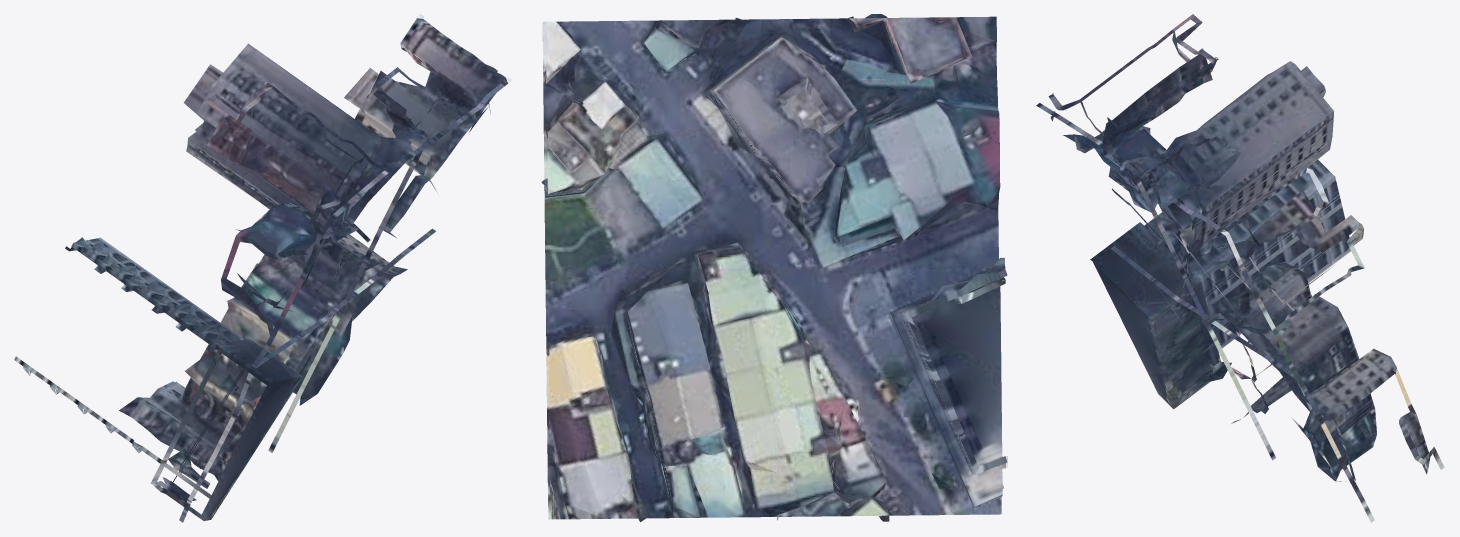
3 views of the same model, side by side, from view 1: azimuth 30°, elevation 25°; view 2: azimuth 150°, elevation 25°; view 3: azimuth 270°, elevation 25° (orthographic). The views are drawn at different scales.
Bounding box in the file's own units: 94.34 × 83.92 × 78.55.
2 materials, 2 textured.
